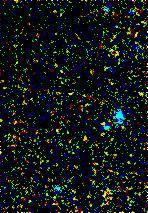star: (65, 125, 95, 155)
